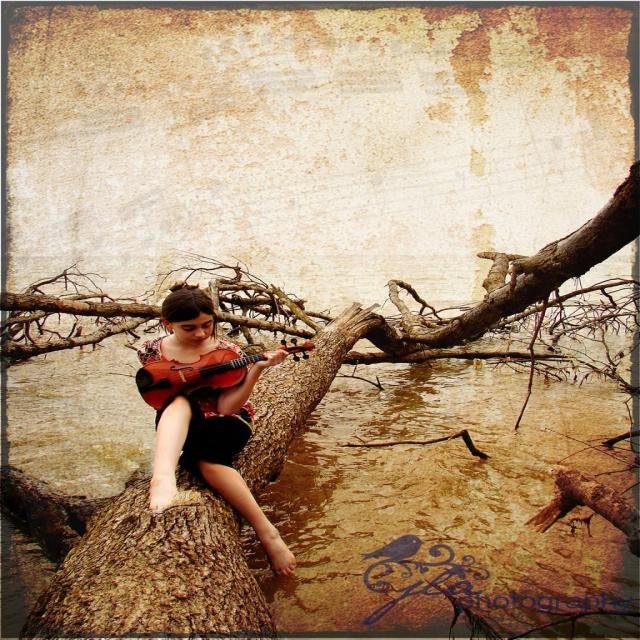violin: (133, 335, 319, 413)
